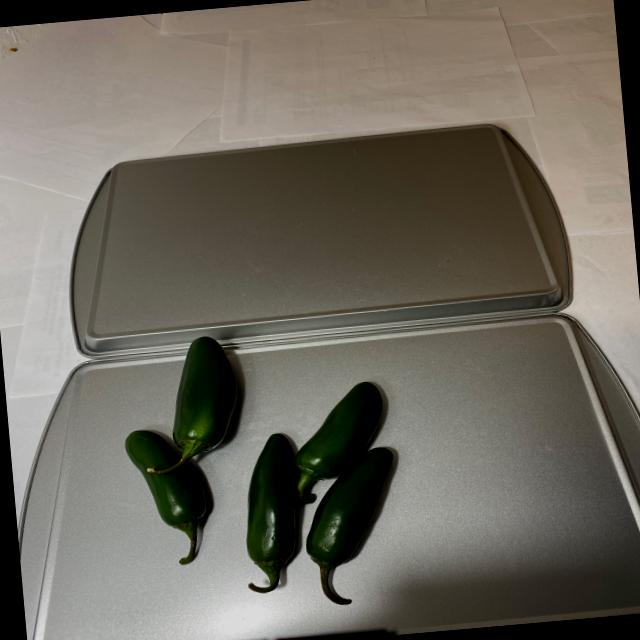chilli: (113, 315, 411, 628)
